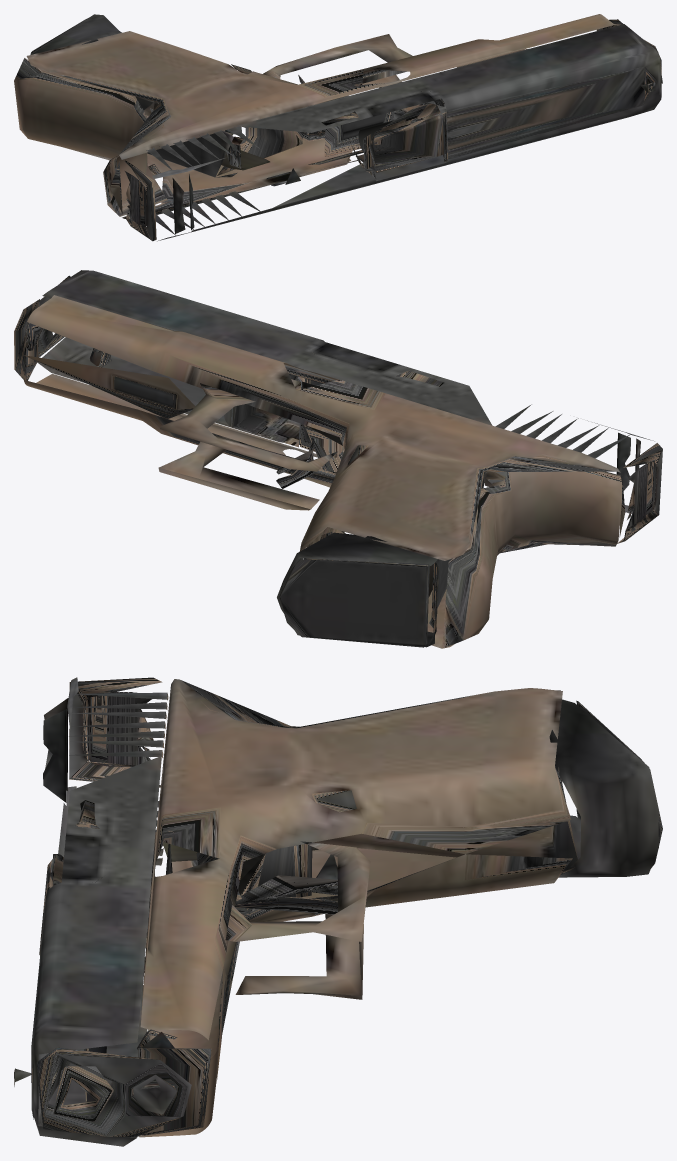
Rendered from p_glock18.glb.
3 renders of one model, top to bottom at view 1: azimuth 30°, elevation 25°; view 2: azimuth 150°, elevation 25°; view 3: azimuth 270°, elevation 25°, orthographic. The views are drawn at different scales.
Parts seen in each view (by area): view 1: p_glock18; view 2: p_glock18; view 3: p_glock18.
Boxes of the visible parts, box(x1,y1,x2,y2) form: p_glock18: box(14, 14, 662, 241); p_glock18: box(14, 270, 662, 648); p_glock18: box(14, 677, 662, 1146).
Size of the model in its own units: 0.3241 by 0.0539 by 0.2193.
1 material, 1 textured.
